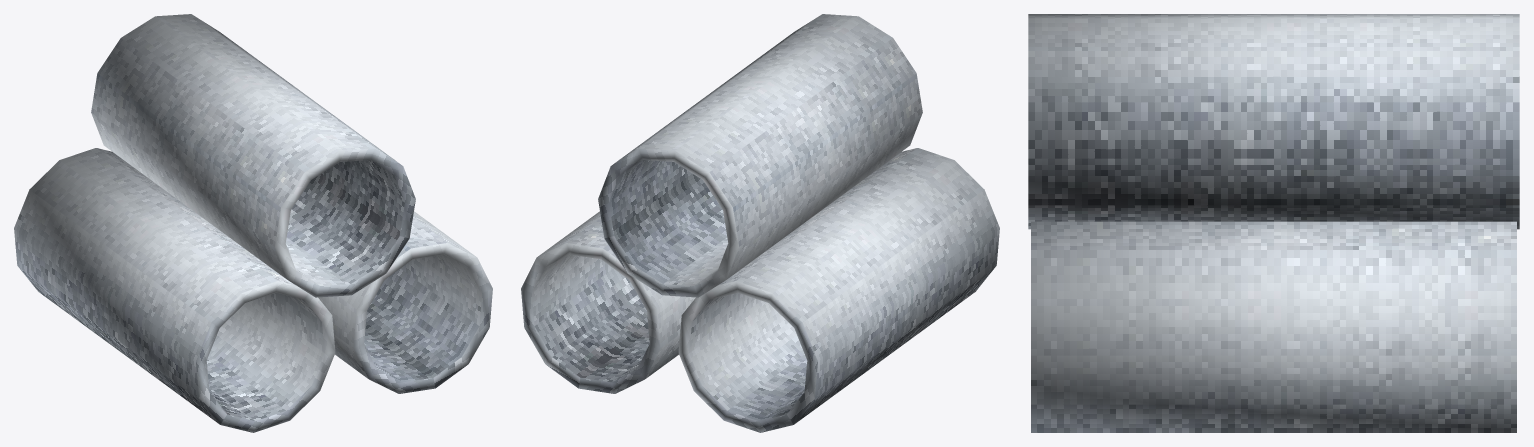
Rendered from concrete_pipe_pile.glb.
3 views of the same model, side by side, from view 1: azimuth 30°, elevation 25°; view 2: azimuth 150°, elevation 25°; view 3: azimuth 270°, elevation 25° (orthographic). The views are drawn at different scales.
Visible parts, largest first — view 1: ConcretePipePile; view 2: ConcretePipePile; view 3: ConcretePipePile.
Boxes of the visible parts, bbox=[...] form: ConcretePipePile: bbox=[14, 14, 492, 432]; ConcretePipePile: bbox=[521, 14, 999, 432]; ConcretePipePile: bbox=[1028, 14, 1519, 432].
Bounding box in the file's own units: 1.54 × 1.3 × 1.65.
Materials: 1 (1 with a texture image).
